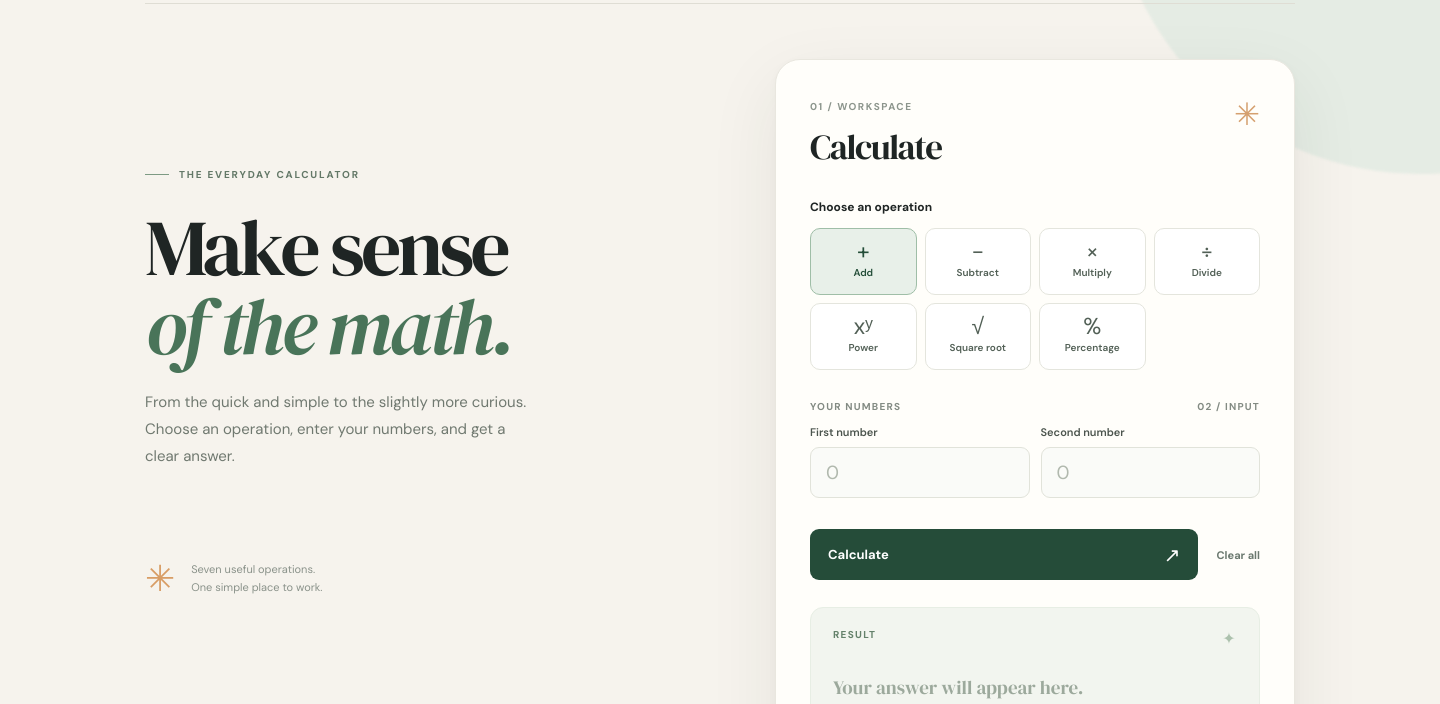
Test case: calculator UI › sends inputs to the API and displays the result
The image size is (1440, 704).
Type "5" into the number field labelled "First number" at (920,472), box [810,447,1030,498]
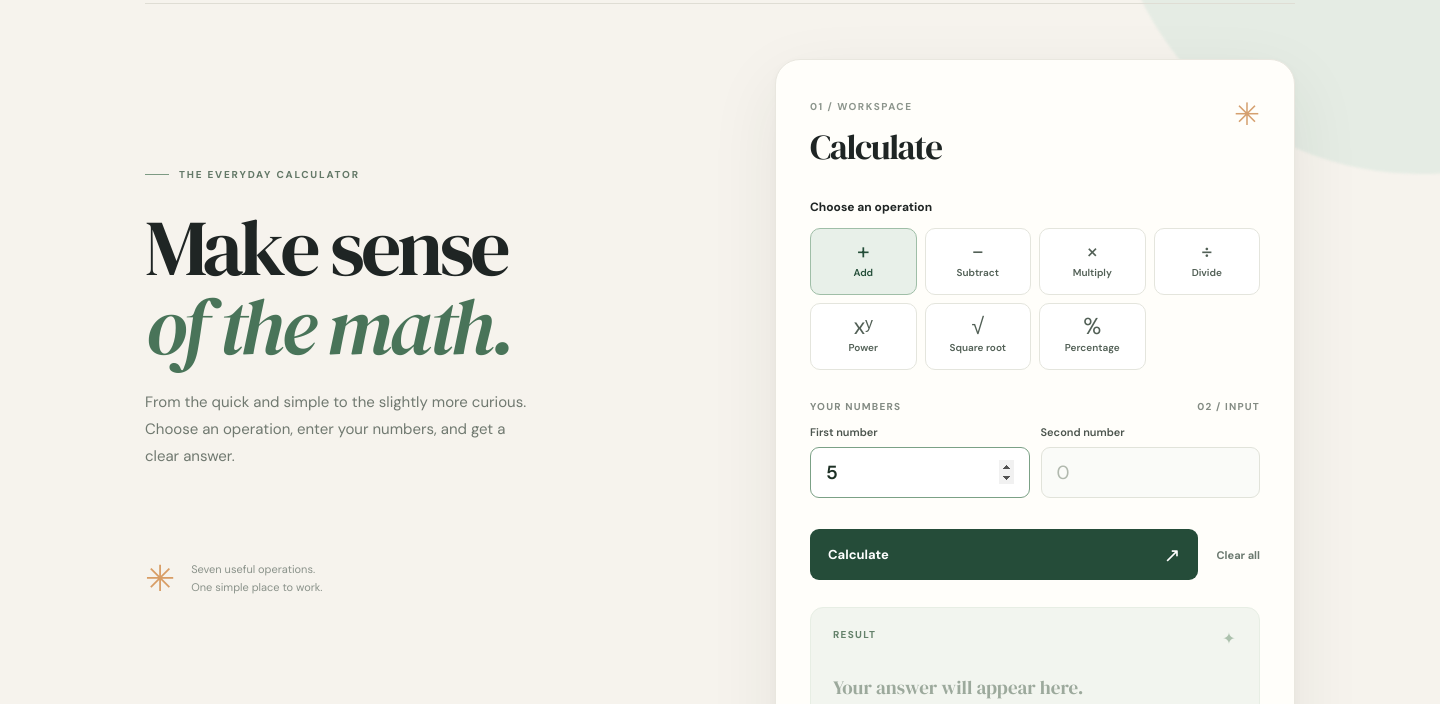
Type "2" into the number field labelled "Second number" at (1150,472), box [1040,447,1260,498]
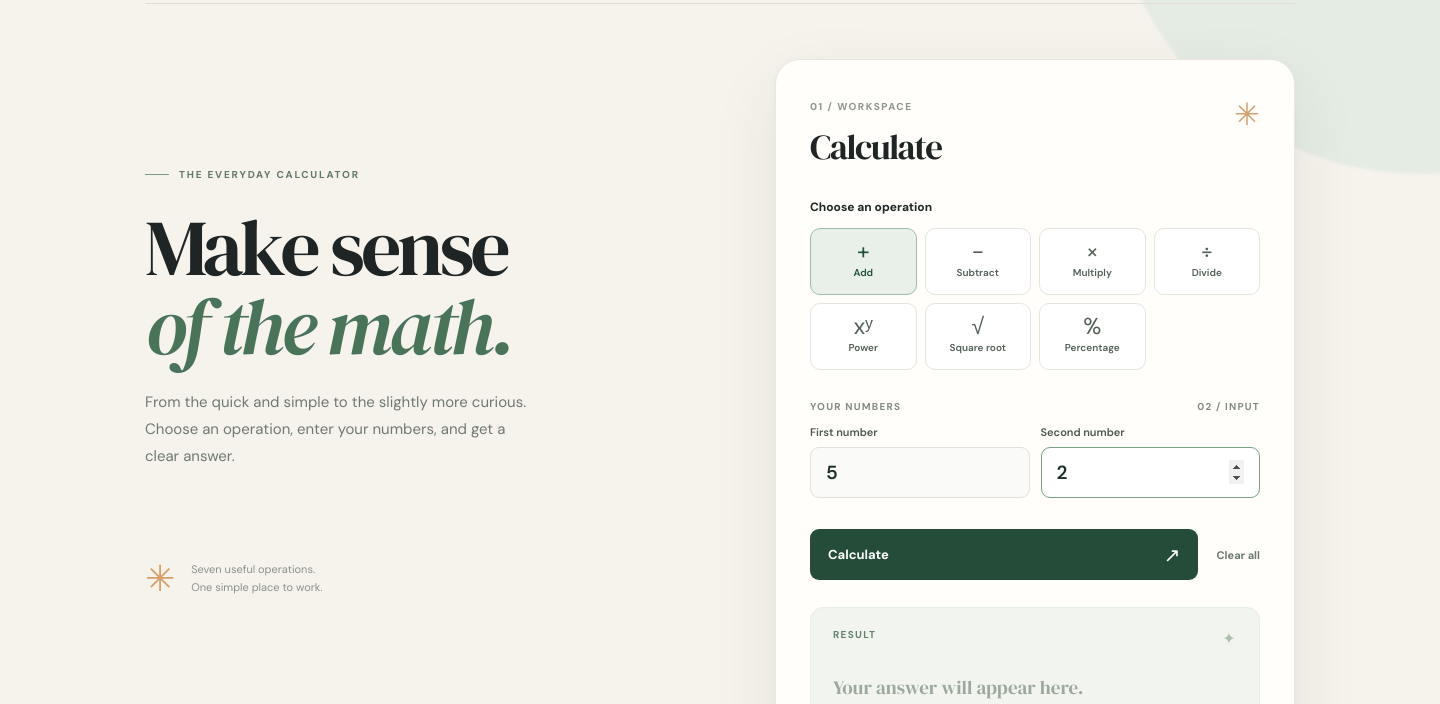
Click the button "Calculate ↗" at (858,554), box [810,529,1198,580]
(page scrolled)
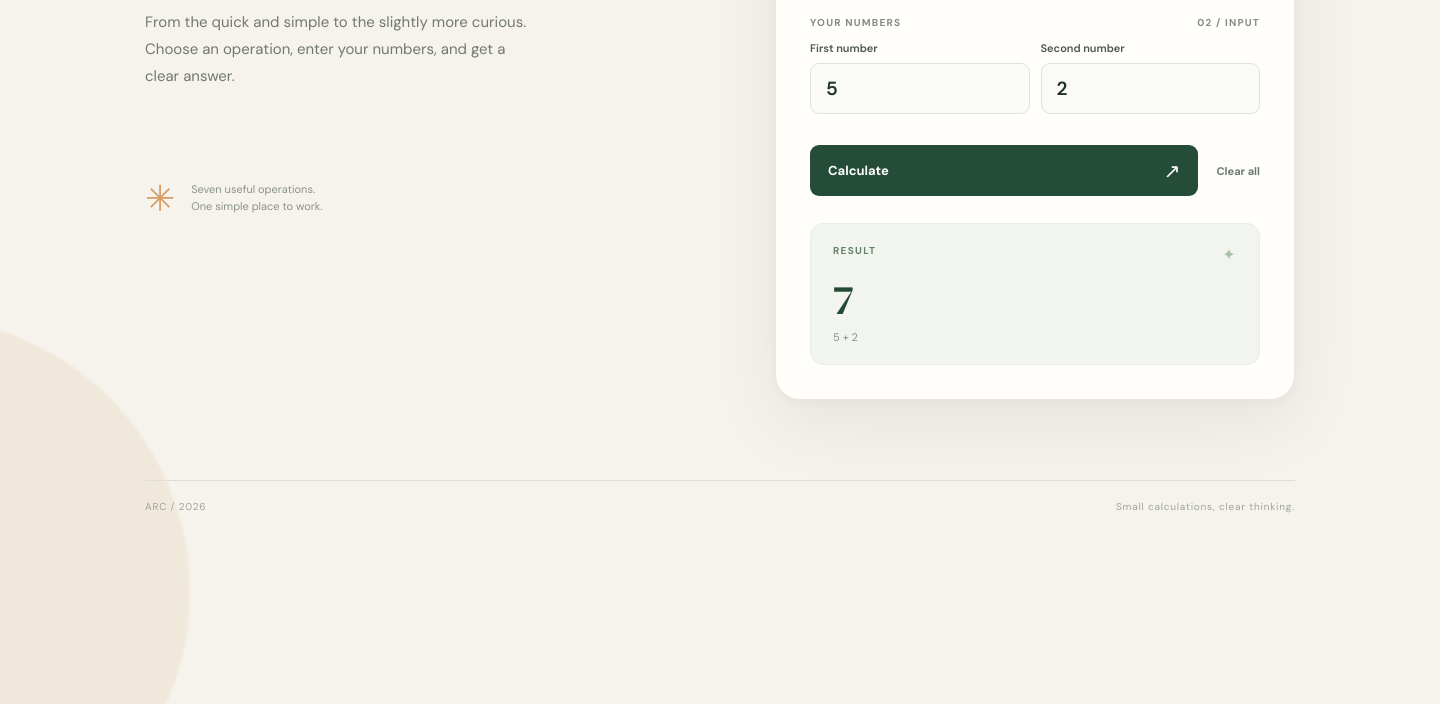
Expected: the text "7" is shown, [833,270,852,328]
